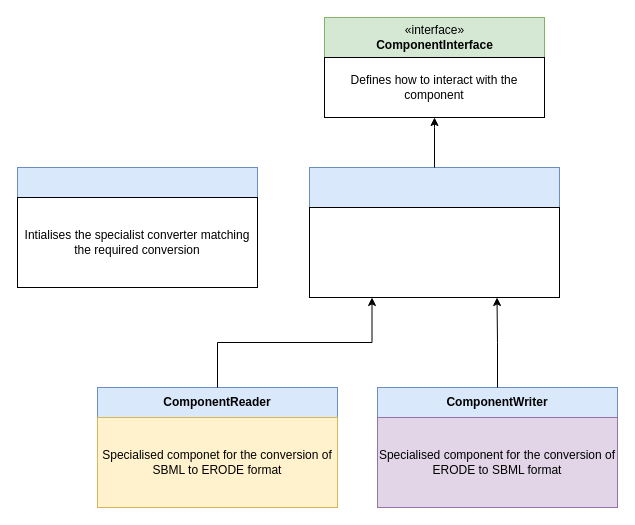
This 635x525 diagram has some shape labels left out. The shapes that lost their labels are listed below. From the top down, each one's centre as x and y in pixels, then its label:
the point at 137,182: ComponentManager
the point at 434,187: <<abstract>> ConverterComponent
the point at 434,252: Defines abstract component structure
